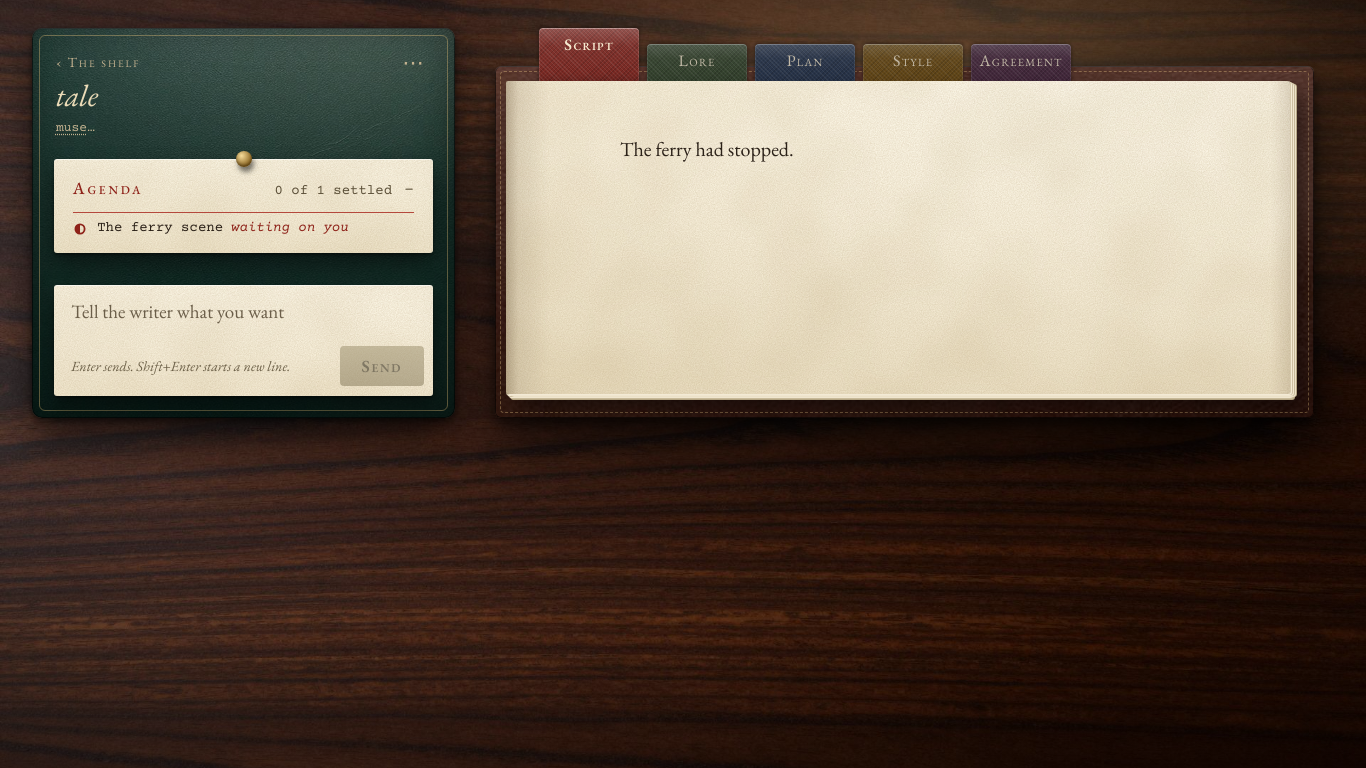
Test case: RoomView › shows the bookmarks as a tablist with Script open first
(page scrolled)
Click the tab "Plan" at (805, 77), box [755,44,855,110]
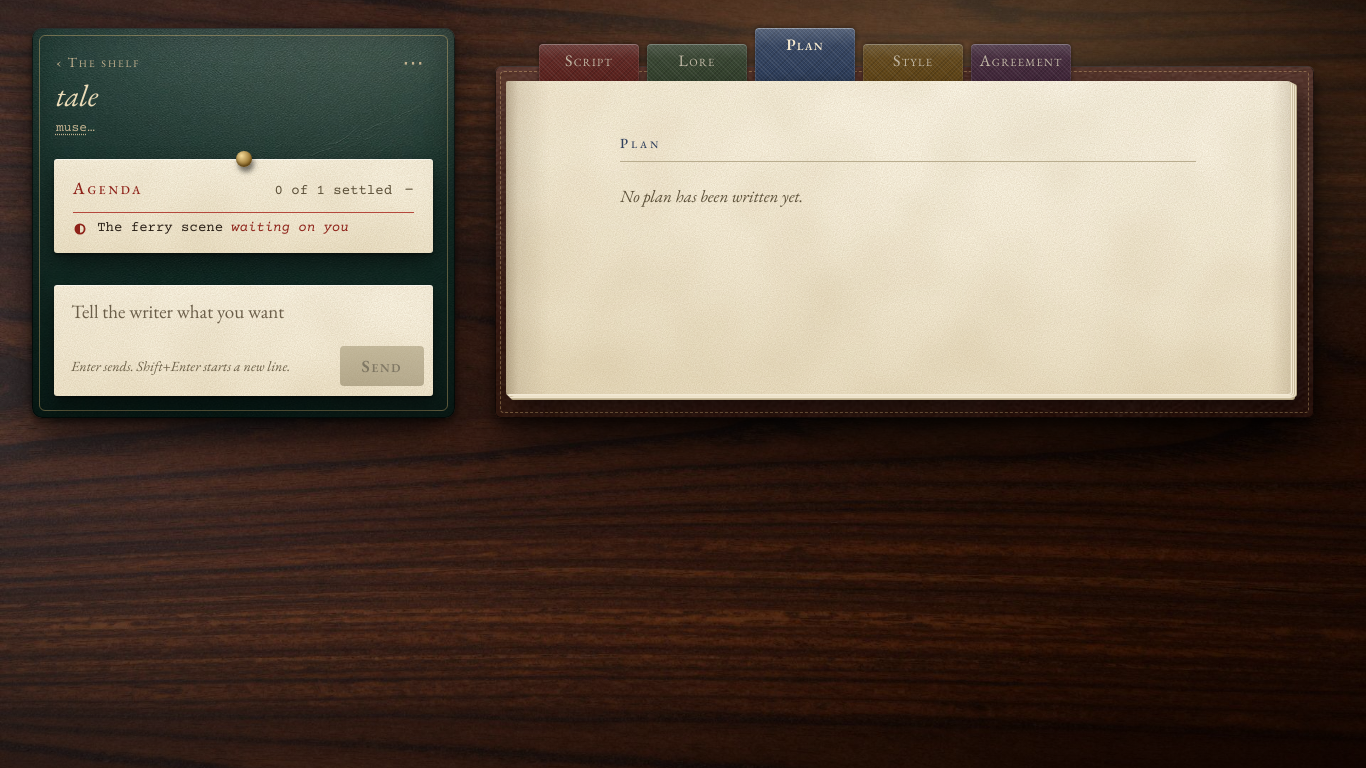
Expected: the panel shows "No plan has been written yet.", [620,185,803,207]
